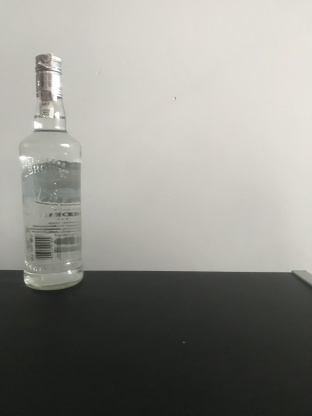nakretka: (33, 50, 64, 99)
